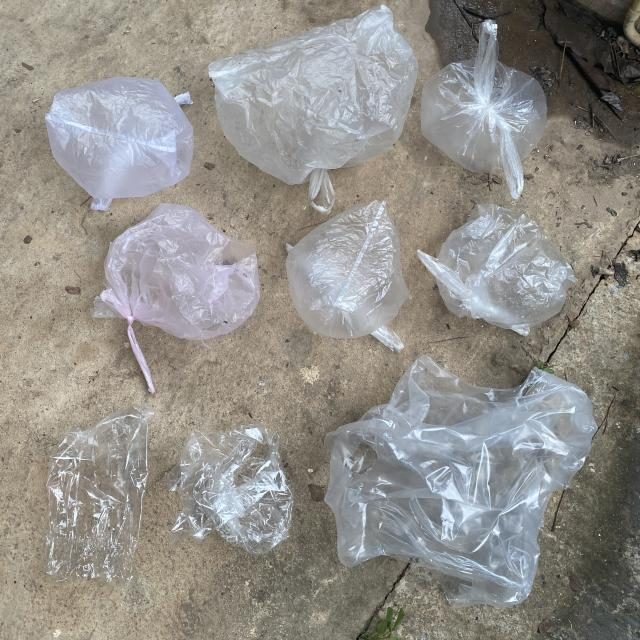Single-layer Plastic: (325, 356, 596, 608), (209, 5, 418, 212), (91, 204, 260, 392), (421, 20, 548, 199), (418, 204, 575, 335), (45, 78, 194, 211), (45, 405, 154, 581), (286, 200, 408, 354), (166, 425, 292, 554)
